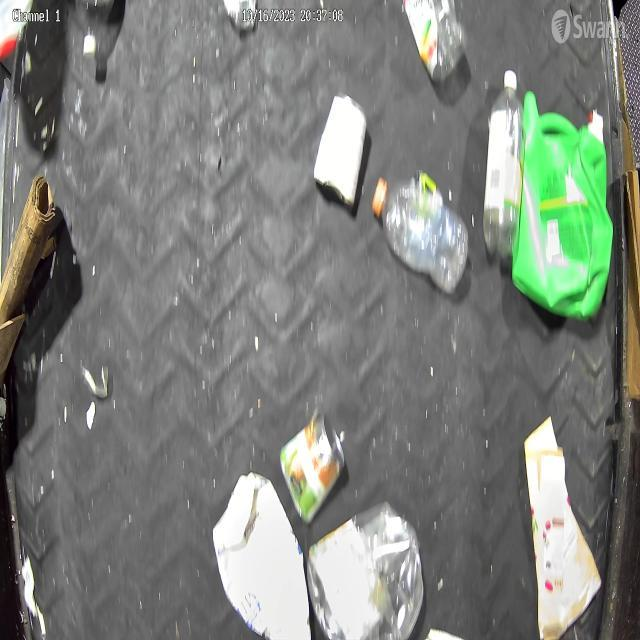can: (312, 498, 421, 640), (276, 411, 347, 524), (312, 81, 369, 216)
milk_jug: (212, 464, 314, 640)
non_white_jug: (508, 79, 612, 324)
plastic_bottle: (372, 162, 470, 302), (478, 64, 532, 264)
